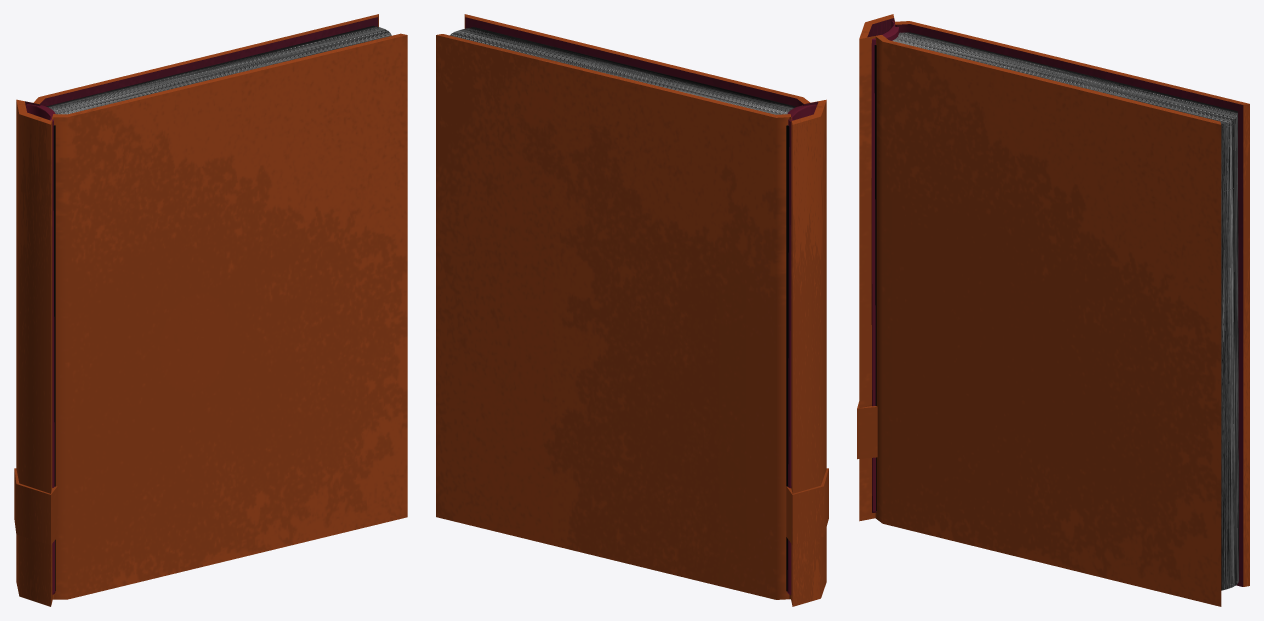
The model's file is book06.fbx.
3 views of the same model, side by side, from view 1: azimuth 30°, elevation 25°; view 2: azimuth 150°, elevation 25°; view 3: azimuth 330°, elevation 25° (orthographic).
Parts seen in each view (by area): view 1: pCube13, pages7, spine6; view 2: pCube13, pages7, spine6; view 3: pCube13, pages7, spine6.
Boxes of the visible parts, bbox=[...] form: pCube13: bbox=[14, 14, 407, 606]; pages7: bbox=[46, 25, 391, 591]; spine6: bbox=[26, 104, 55, 594]; pCube13: bbox=[436, 14, 828, 606]; pages7: bbox=[450, 27, 796, 591]; spine6: bbox=[787, 104, 816, 594]; pCube13: bbox=[857, 14, 1249, 606]; pages7: bbox=[874, 32, 1238, 590]; spine6: bbox=[871, 21, 898, 512].
Size of the model in its own units: 0.4323 by 0.5309 by 0.0728.
